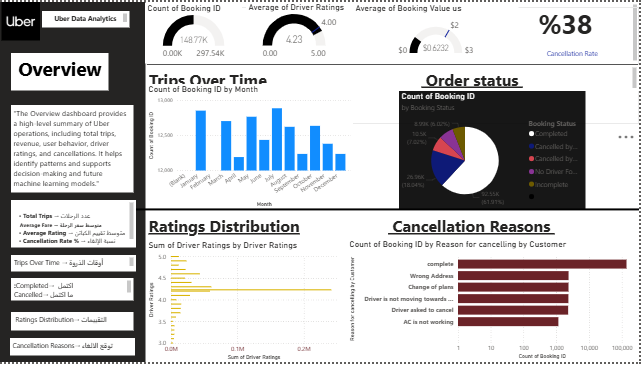

The page's visual inventory and layout, read from the dashboard file:
{"tool":"powerbi","page":{"name":"Page 1","canvas":[1280,720],"ordinal":0},"visuals":[{"type":"textbox","title":"Overview","box":[0,0,293.3,720],"z":0},{"type":"textbox","box":[23.3,101.7,195,75],"z":1000},{"type":"textbox","box":[23.3,206.7,245,175],"z":2000},{"type":"image","box":[0,0,86.7,76.7],"z":3000},{"type":"textbox","box":[23.3,505,250,33.3],"z":4000},{"type":"textbox","box":[86.7,18.3,175,33.3],"z":5000},{"type":"textbox","box":[23.3,395,250,95],"z":6000},{"type":"textbox","box":[23.3,551.7,245,45],"z":7000},{"type":"textbox","box":[23.3,620,245,36.7],"z":8000},{"type":"textbox","box":[21.2,672.5,250,35],"z":9000},{"type":"textbox","box":[293.3,0,986.7,126.7],"z":10000},{"type":"shape","box":[293.3,10,986.7,233.3],"z":11000},{"type":"textbox","box":[294,126,986,52],"z":12000},{"type":"columnChart","fields":{"Category":["مشروع تخرج اوبر.Date.Variation.Date Hierarchy.Month"],"Y":["Count(مشروع تخرج اوبر.Booking ID)"]},"box":[294.3,164.3,414.3,250],"z":13000},{"type":"shape","box":[273.3,263.3,1006.7,301.7],"z":14000},{"type":"pieChart","fields":{"Y":["Count(مشروع تخرج اوبر.Booking ID)"],"Category":["مشروع تخرج اوبر.Booking Status"]},"box":[800,177.1,372.9,237.1],"z":15000},{"type":"textbox","box":[293.3,420,986.7,70],"z":16000},{"type":"clusteredBarChart","fields":{"Category":["مشروع تخرج اوبر.Driver Ratings"],"Y":["Sum(مشروع تخرج اوبر.Driver Ratings)"]},"box":[293.8,475,401.2,245],"z":17000},{"type":"barChart","fields":{"Category":["مشروع تخرج اوبر.Driver Cancellation Reason","مشروع تخرج اوبر.Reason for cancelling by Customer"],"Y":["Count(مشروع تخرج اوبر.Booking ID)"]},"box":[695,473.8,585,245],"z":18000},{"type":"gauge","fields":{"Y":["Count(مشروع تخرج اوبر.Booking ID)"]},"box":[292.9,1.4,194.3,121.4],"z":19000},{"type":"gauge","fields":{"Y":["Avg(مشروع تخرج اوبر.Driver Ratings)"]},"box":[494.3,0,214.3,122.9],"z":20000},{"type":"gauge","fields":{"Y":["Avg(مشروع تخرج اوبر.Booking Value us )"]},"box":[708.6,1.4,331.4,110],"z":21000}]}

Visuals, with their boxes in screenshot pixels (x1, y1, x2, y2), scaled from the page's 1280x720 canvas onto the 642x365 screenshot:
"Overview" textbox: box=[0, 0, 147, 364]
textbox: box=[12, 52, 109, 90]
textbox: box=[12, 105, 135, 194]
image: box=[0, 0, 43, 39]
textbox: box=[12, 256, 137, 273]
textbox: box=[43, 9, 131, 26]
textbox: box=[12, 200, 137, 248]
textbox: box=[12, 280, 135, 302]
textbox: box=[12, 314, 135, 333]
textbox: box=[11, 341, 136, 359]
textbox: box=[147, 0, 641, 64]
shape: box=[147, 5, 641, 123]
textbox: box=[147, 64, 641, 90]
columnChart - مشروع تخرج اوبر.Date.Variation.Date Hierarchy.Month x Count(مشروع تخرج اوبر.Booking ID): box=[148, 83, 355, 210]
shape: box=[137, 133, 641, 286]
pieChart - Count(مشروع تخرج اوبر.Booking ID) x مشروع تخرج اوبر.Booking Status: box=[401, 90, 588, 210]
textbox: box=[147, 213, 641, 248]
clusteredBarChart - مشروع تخرج اوبر.Driver Ratings x Sum(مشروع تخرج اوبر.Driver Ratings): box=[147, 241, 349, 364]
barChart - مشروع تخرج اوبر.Driver Cancellation Reason x مشروع تخرج اوبر.Reason for cancelling by Customer: box=[349, 240, 641, 364]
gauge - Count(مشروع تخرج اوبر.Booking ID): box=[147, 1, 244, 62]
gauge - Avg(مشروع تخرج اوبر.Driver Ratings): box=[248, 0, 355, 62]
gauge - Avg(مشروع تخرج اوبر.Booking Value us ): box=[355, 1, 522, 56]
